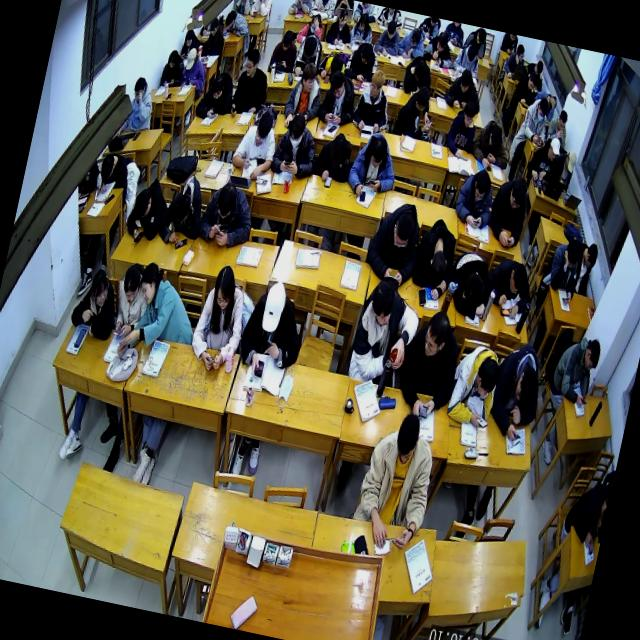bow: (128, 260, 204, 348), (485, 340, 549, 442), (444, 340, 504, 428), (408, 216, 462, 300), (156, 174, 209, 248), (443, 247, 496, 320), (123, 175, 172, 246), (484, 256, 536, 322), (468, 116, 515, 174), (312, 128, 357, 185), (194, 68, 236, 122), (442, 66, 486, 114), (400, 53, 436, 97), (421, 28, 457, 68), (396, 24, 428, 62), (222, 8, 255, 40), (295, 10, 325, 45), (316, 50, 346, 81), (287, 0, 314, 16)
down: (391, 412, 422, 466), (259, 280, 289, 334), (367, 278, 398, 327), (473, 354, 501, 398), (512, 364, 540, 406), (210, 266, 236, 310), (544, 108, 572, 148), (214, 182, 238, 220), (390, 210, 414, 248), (120, 264, 142, 304), (252, 110, 274, 148), (286, 112, 308, 150), (131, 186, 154, 220), (506, 176, 528, 211), (507, 261, 528, 295), (582, 338, 602, 373), (368, 134, 388, 168), (172, 190, 192, 222), (326, 69, 346, 99), (471, 170, 489, 202), (562, 238, 580, 270), (326, 140, 344, 170), (98, 151, 116, 180), (582, 242, 600, 270), (130, 76, 148, 103), (413, 86, 431, 113), (460, 100, 477, 128), (486, 124, 503, 150), (208, 74, 224, 100), (534, 96, 550, 122), (301, 36, 318, 60), (546, 136, 561, 162), (358, 43, 374, 66), (184, 47, 198, 71), (458, 68, 472, 92), (280, 28, 294, 52), (411, 59, 426, 81), (328, 54, 343, 76), (434, 30, 448, 51), (384, 18, 397, 40), (408, 28, 422, 48), (564, 150, 576, 172), (464, 44, 477, 64), (556, 111, 568, 132), (166, 48, 178, 68), (308, 14, 320, 34), (356, 12, 368, 32), (526, 72, 538, 92), (208, 17, 219, 37), (224, 9, 236, 27), (183, 30, 194, 47), (533, 59, 544, 76)
sit: (348, 407, 444, 556), (346, 276, 424, 388), (393, 306, 465, 422), (234, 276, 311, 384), (186, 262, 254, 376), (362, 196, 426, 286), (195, 175, 258, 248), (196, 178, 258, 251), (196, 177, 258, 250), (67, 263, 124, 341), (345, 129, 403, 202), (228, 108, 282, 182), (269, 110, 323, 181), (550, 334, 602, 407), (485, 172, 532, 250), (110, 260, 154, 342), (228, 46, 274, 122), (281, 58, 327, 130), (350, 65, 398, 134), (540, 234, 584, 304), (452, 165, 499, 230), (316, 68, 360, 128), (394, 81, 438, 140), (442, 96, 481, 158), (124, 76, 158, 134), (95, 150, 134, 198), (526, 133, 562, 184), (518, 94, 552, 146), (342, 39, 381, 84), (570, 239, 599, 296), (267, 27, 300, 76), (292, 30, 324, 80), (178, 46, 211, 94), (324, 5, 356, 48), (372, 15, 403, 58), (158, 48, 186, 90), (200, 16, 228, 58), (451, 41, 482, 78), (552, 148, 578, 192), (348, 10, 377, 46), (513, 70, 540, 106), (502, 42, 527, 80), (180, 28, 202, 58), (248, 0, 276, 19), (232, 0, 256, 15)
